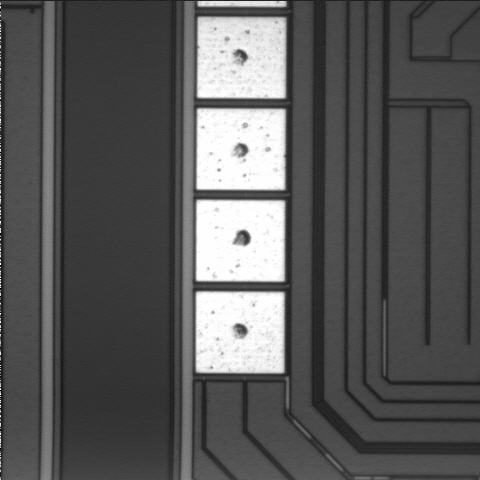pad: (196, 108, 285, 190), (196, 200, 285, 282), (197, 17, 286, 98), (196, 292, 284, 373)
